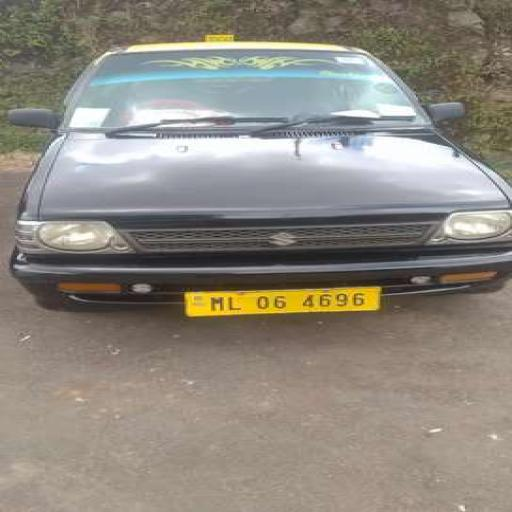license_plate`: (181, 284, 378, 314)
